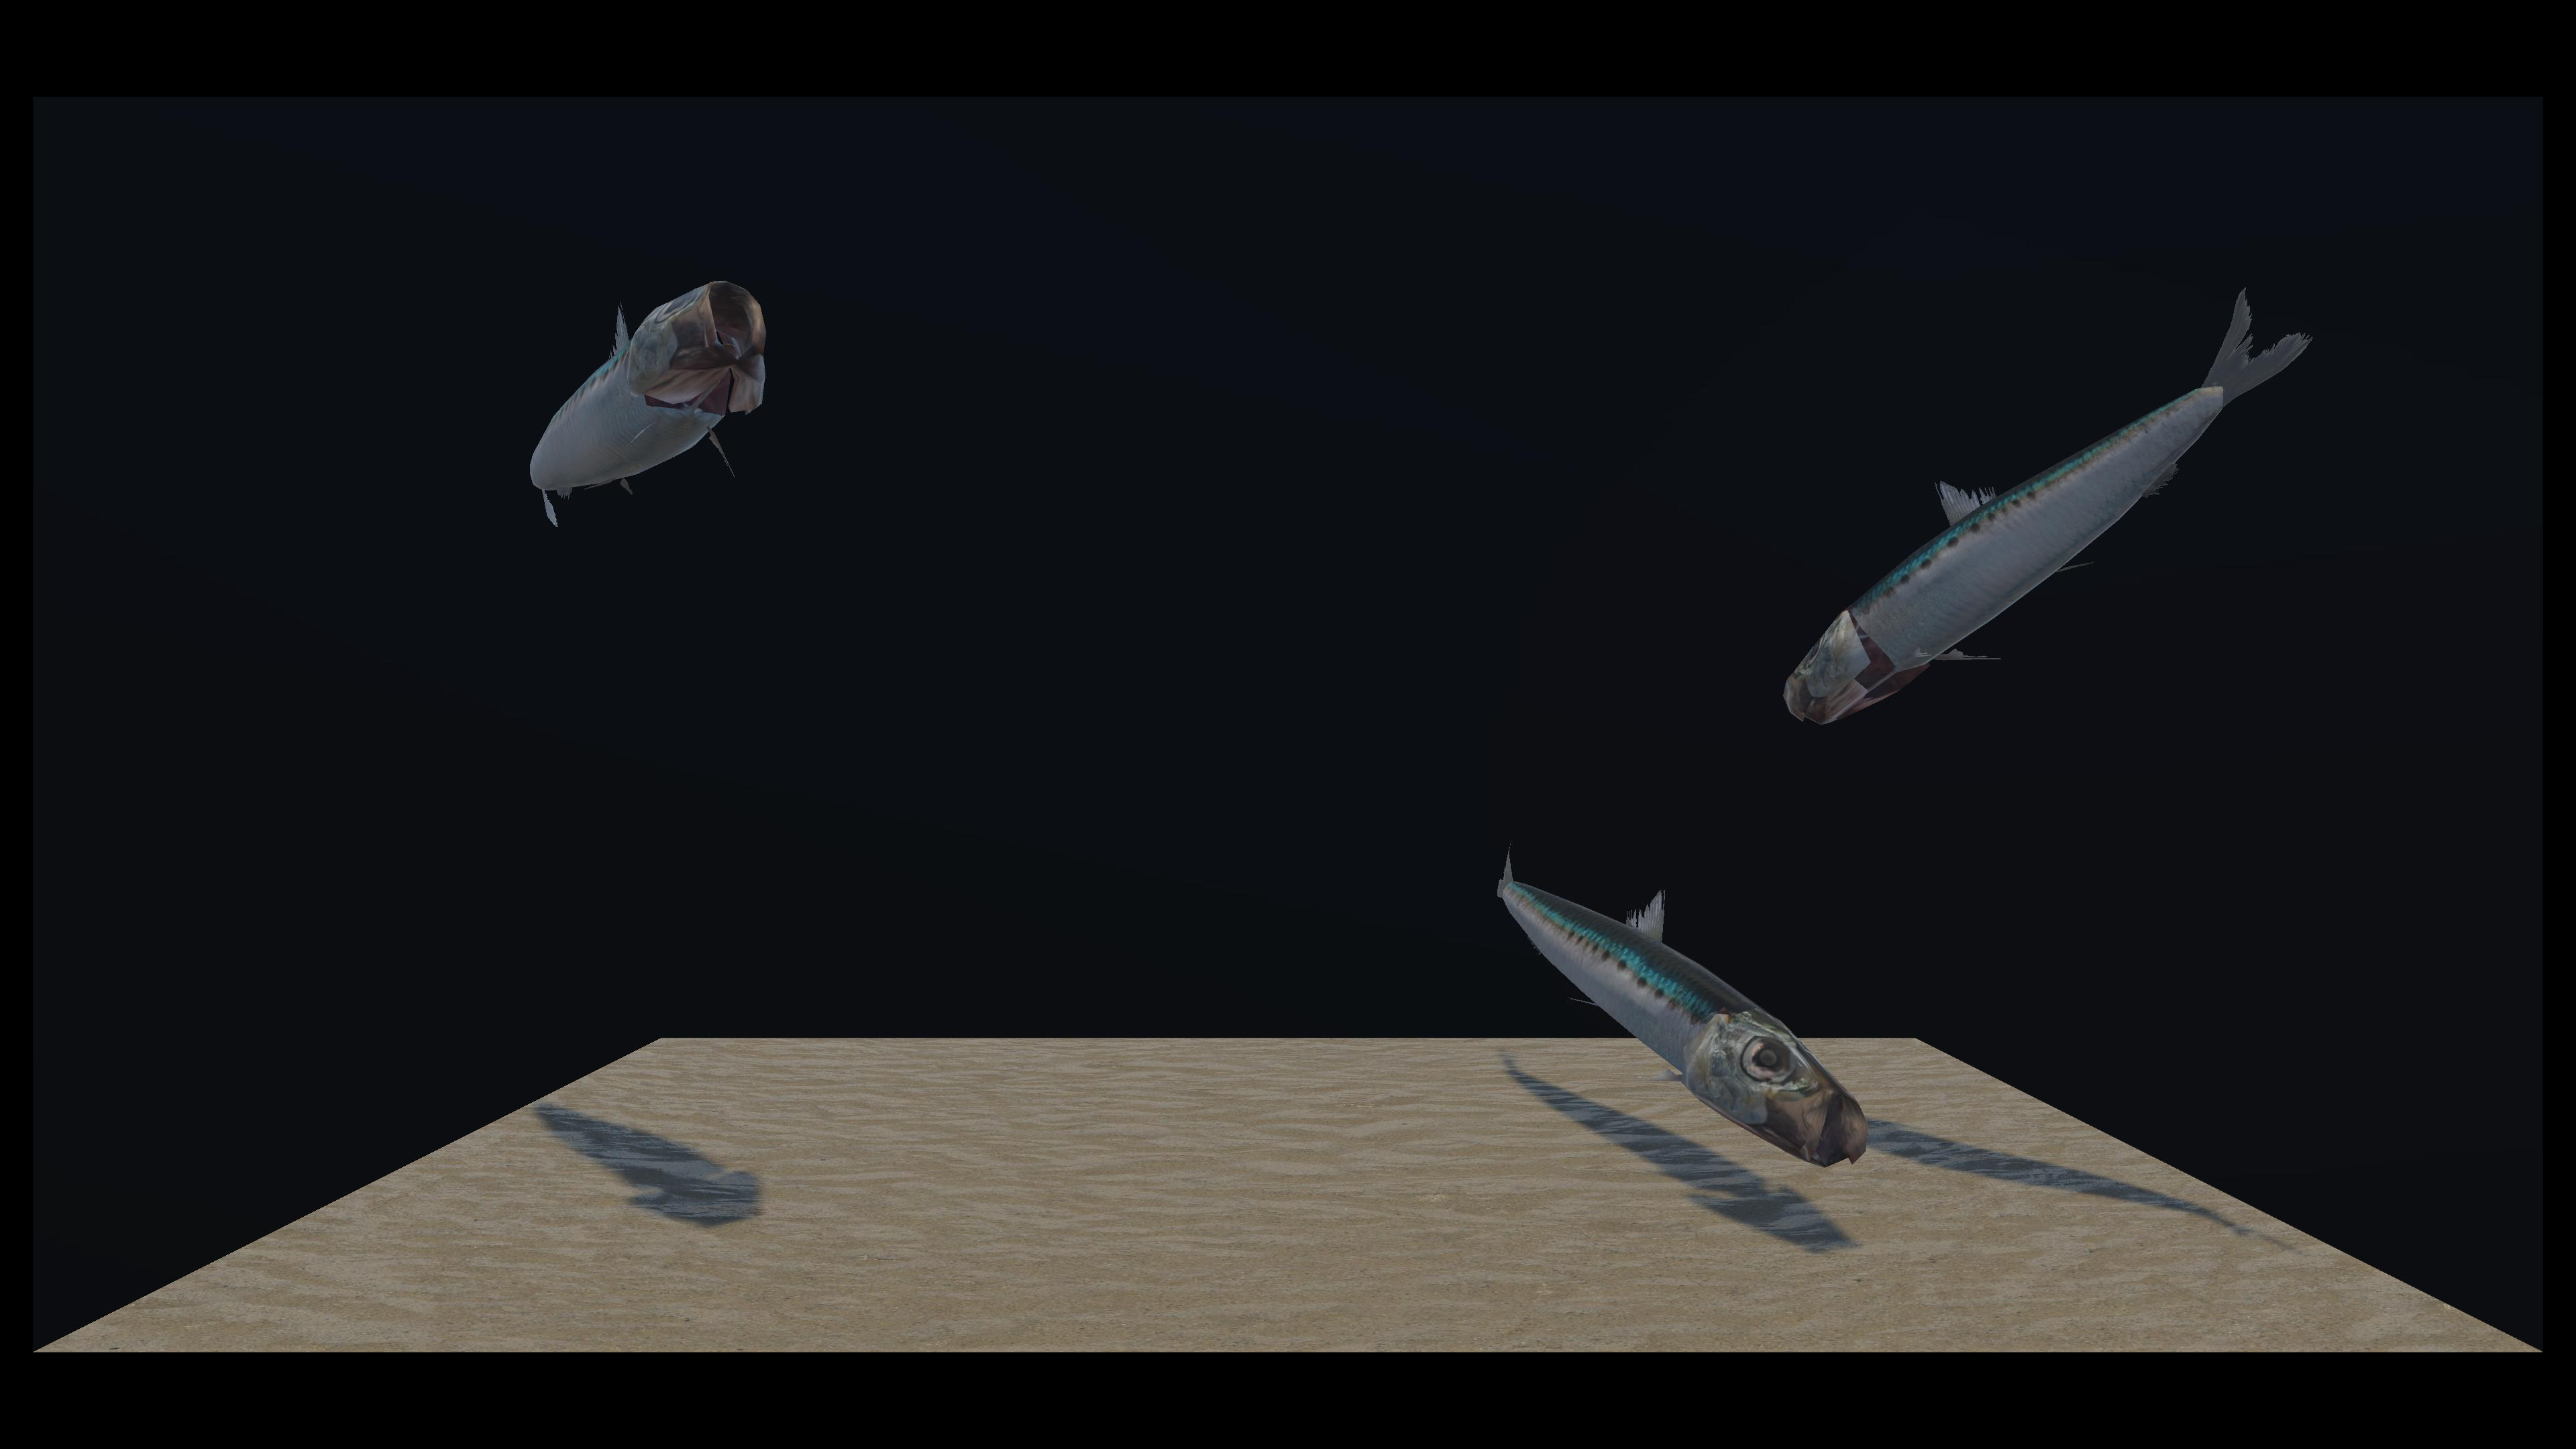Sardine_Front: (614, 492, 1836, 1104), (920, 288, 2316, 674), (513, 283, 939, 525)
